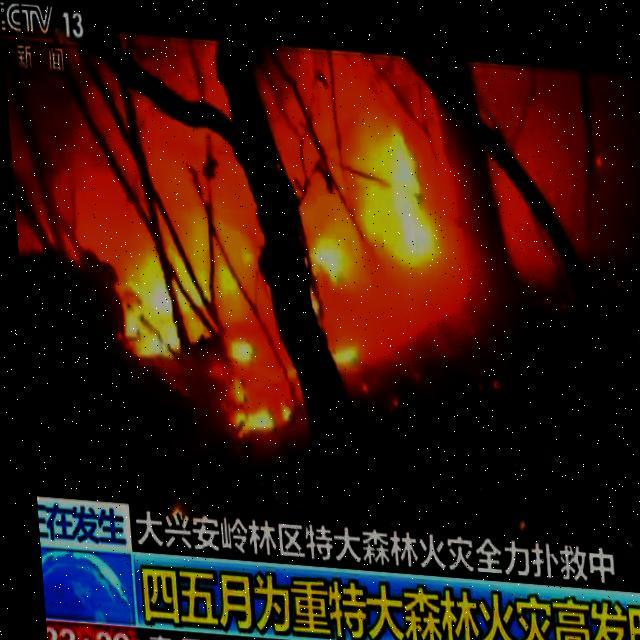Fire: (110, 220, 290, 432), (358, 118, 442, 268), (299, 224, 359, 363)
